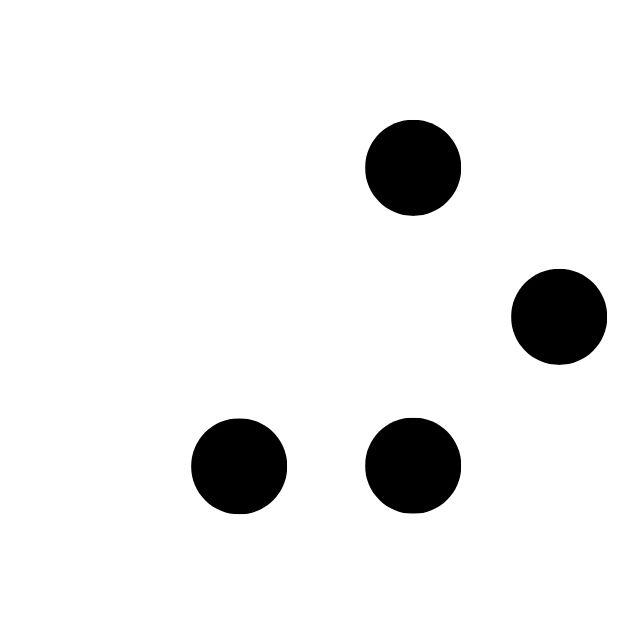O: (363, 119, 608, 515)
capital: (43, 119, 288, 515)
